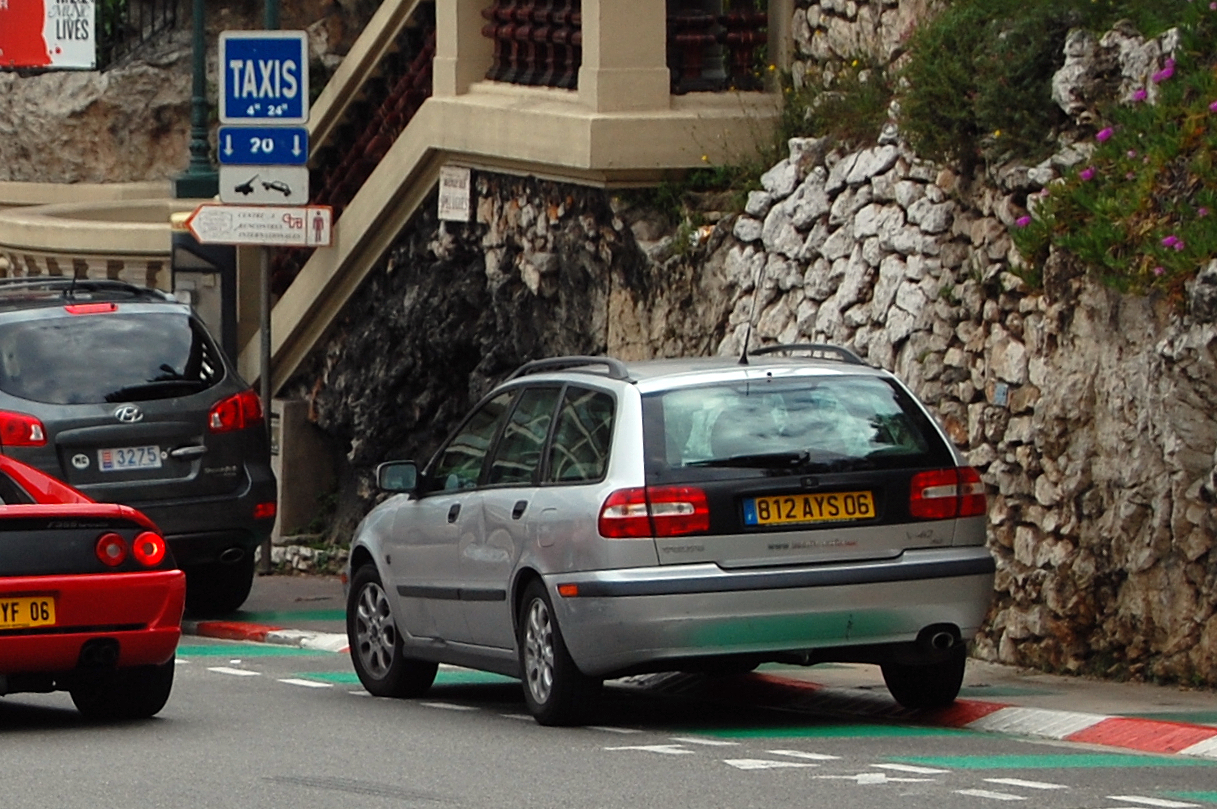licence plate: (739, 487, 876, 530)
